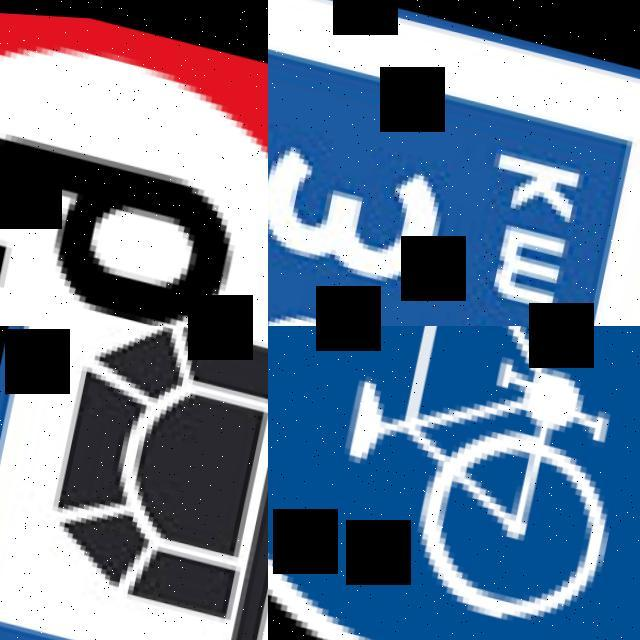102: (268, 0, 640, 326)
Cycle track: (268, 326, 640, 640)
speed limit-60: (0, 0, 268, 326)
tunnel in 2 km: (0, 326, 268, 640)
